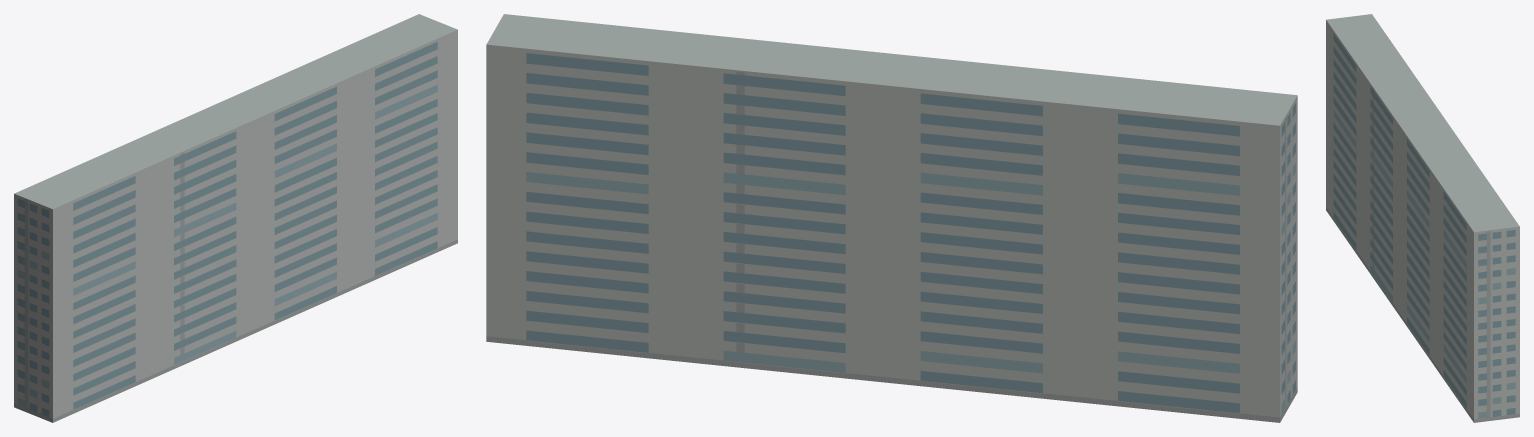
File: residential-03f71810-c86e-48df-88ff-6f99af578711.glb
The picture shows the model from 3 angles, left to right: view 1: azimuth 30°, elevation 25°; view 2: azimuth 150°, elevation 25°; view 3: azimuth 270°, elevation 25°; orthographic projection. The views are drawn at different scales.
Visible parts, largest first — view 1: residential-03f71810-c86e-48df-88ff-6f99af578711.tmp; view 2: residential-03f71810-c86e-48df-88ff-6f99af578711.tmp; view 3: residential-03f71810-c86e-48df-88ff-6f99af578711.tmp.
Boxes of the visible parts, left/top/right/bottom form: residential-03f71810-c86e-48df-88ff-6f99af578711.tmp: left=14, top=14, right=457, bottom=422; residential-03f71810-c86e-48df-88ff-6f99af578711.tmp: left=486, top=14, right=1297, bottom=422; residential-03f71810-c86e-48df-88ff-6f99af578711.tmp: left=1326, top=14, right=1519, bottom=422.
Size of the model in its own units: 112 by 45.75 by 42.12.
